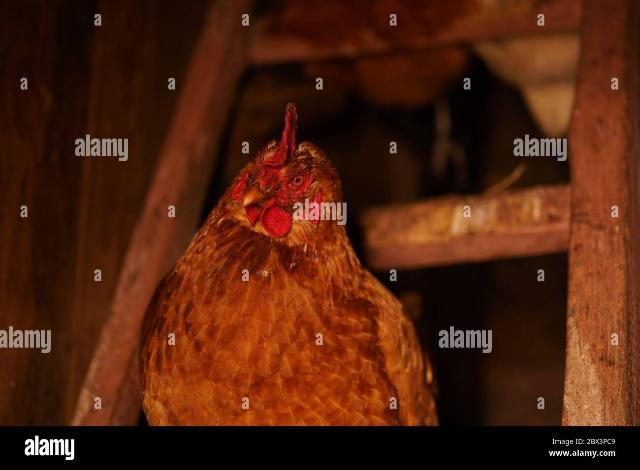Chicken: (140, 103, 444, 427)
